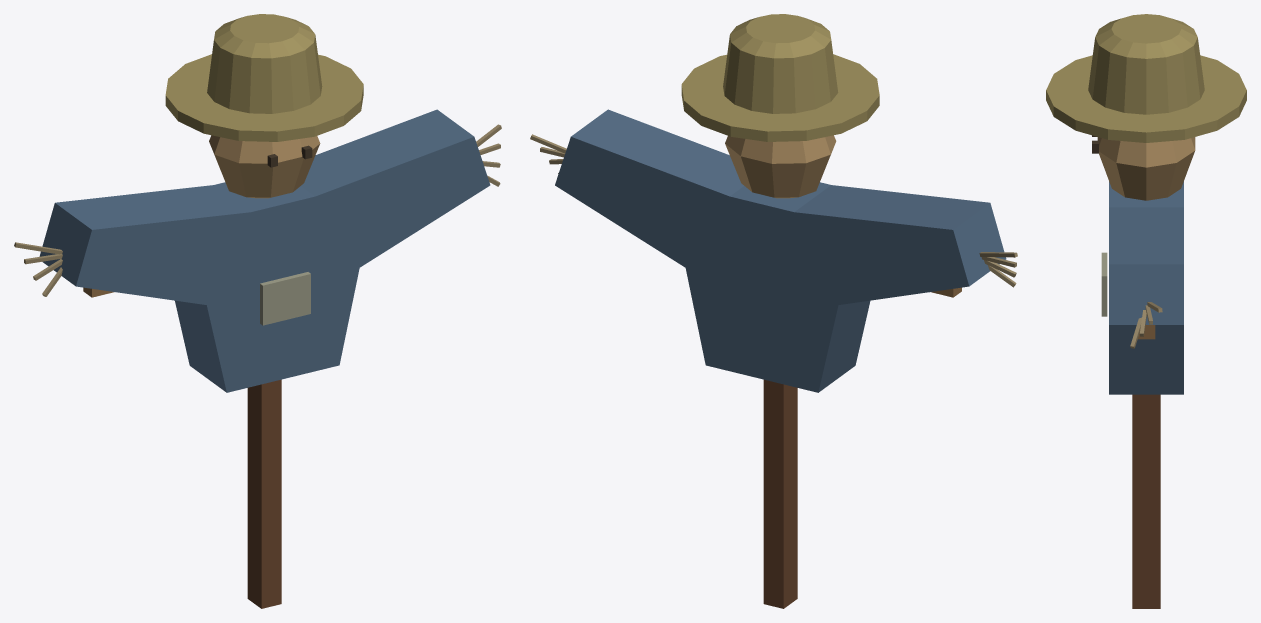
Rendered from Prop_Daily_Scarecrow_001.glb.
3 views of the same model, side by side, from view 1: azimuth 30°, elevation 25°; view 2: azimuth 150°, elevation 25°; view 3: azimuth 270°, elevation 25° (orthographic).
Parts seen in each view (by area): view 1: Prop_Daily_Scarecrow_001; view 2: Prop_Daily_Scarecrow_001; view 3: Prop_Daily_Scarecrow_001.
Part boxes in pixels (left/top/right/bottom): Prop_Daily_Scarecrow_001: left=14, top=14, right=501, bottom=608; Prop_Daily_Scarecrow_001: left=530, top=14, right=1017, bottom=608; Prop_Daily_Scarecrow_001: left=1046, top=14, right=1246, bottom=608.
Bounding box in the file's own units: 2.42 × 2.72 × 0.86.
